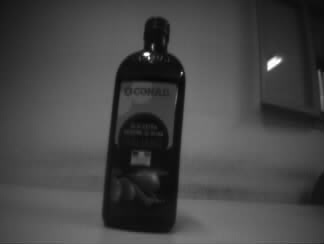Bottle: (101, 15, 188, 235)
